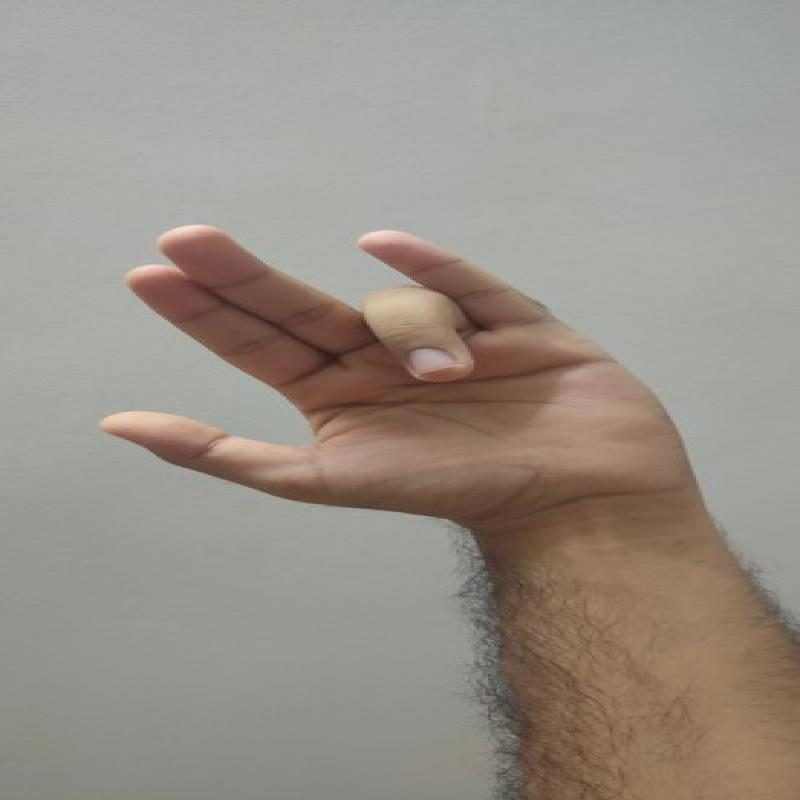Pathaaka: (99, 207, 689, 529)
